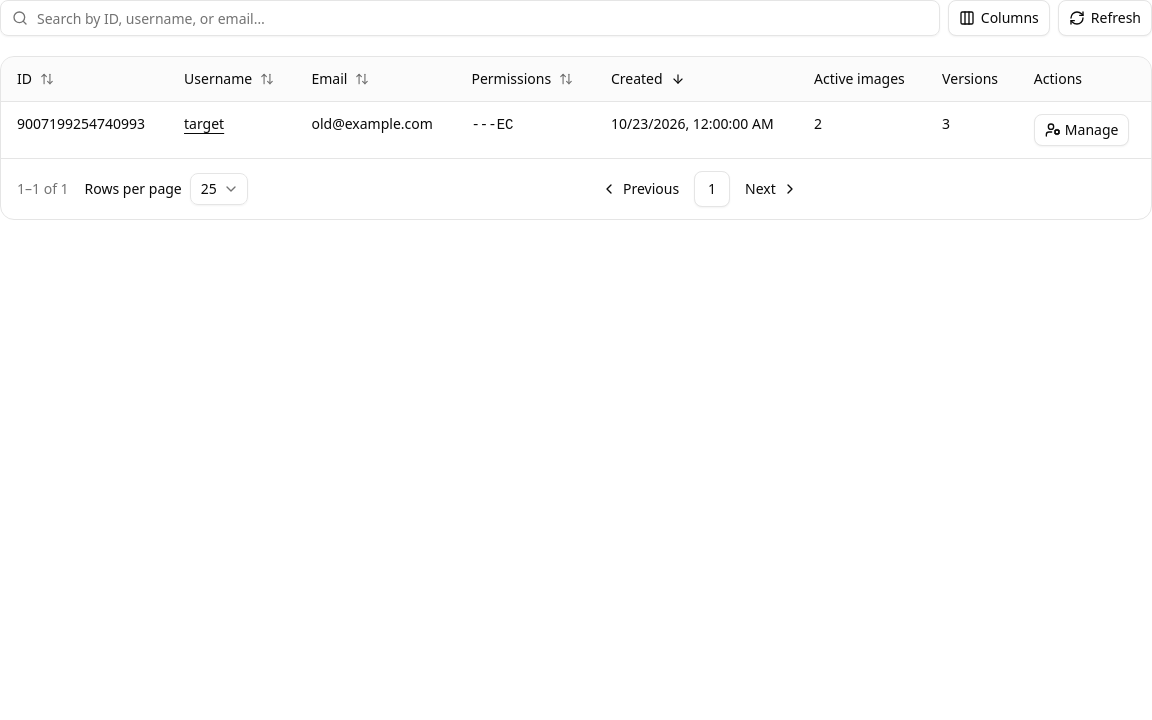
Test: keeps failed changes open for retry and rechecks identity on access denial
The image size is (1152, 720).
Step 1. Click the button with aria-label "Manage target" → (1082, 130), box [1034,114,1130,146]
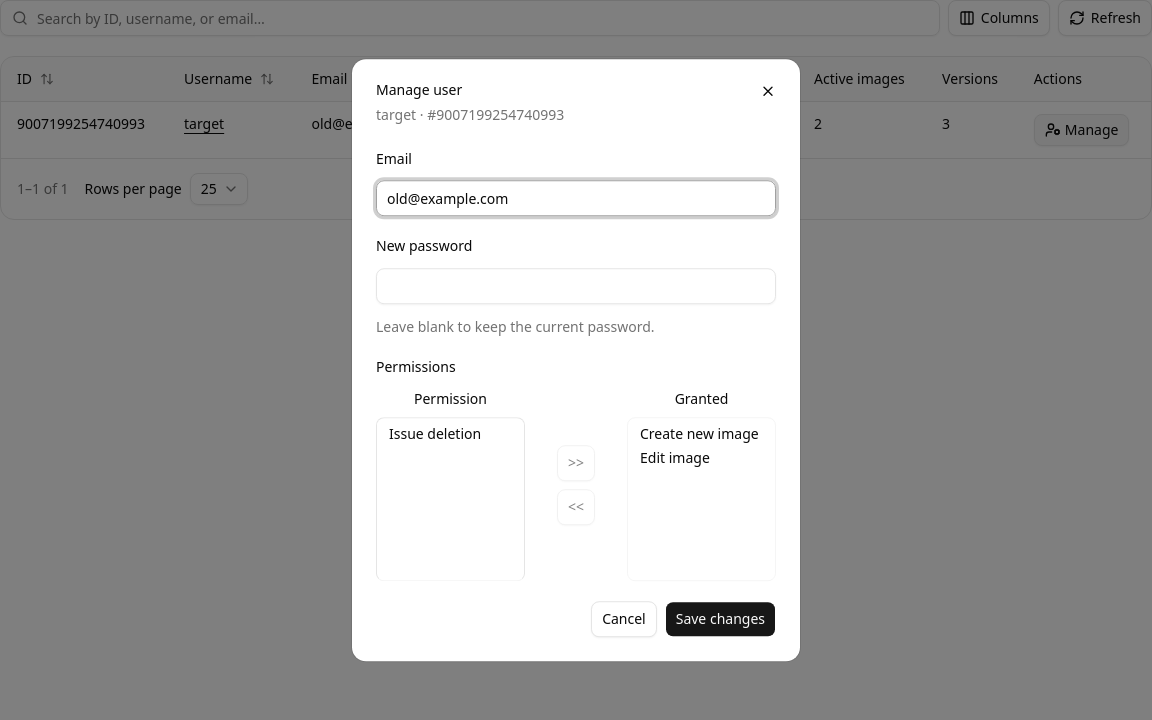
Step 2. Click the button "Save changes" → (720, 619), box [665,601,776,637]
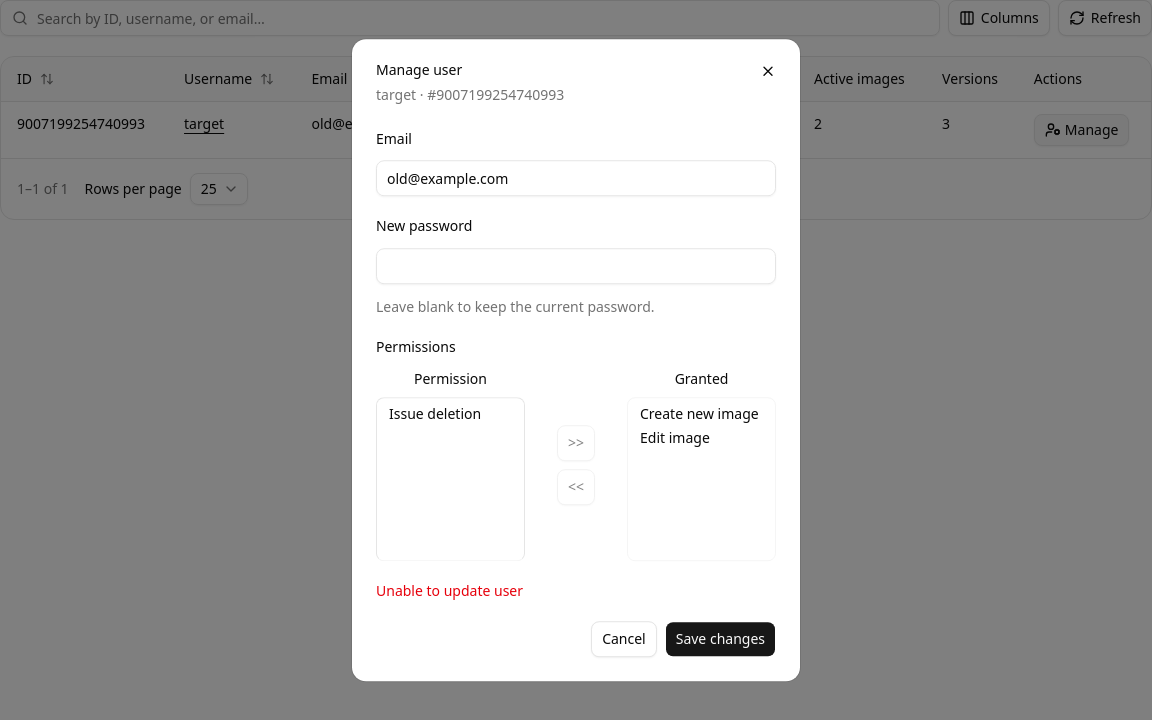
Expected: the message reads "Unable to update user", [376,581,523,600]
Step 3. Click the button "Save changes" → (720, 639), box [665,621,776,657]
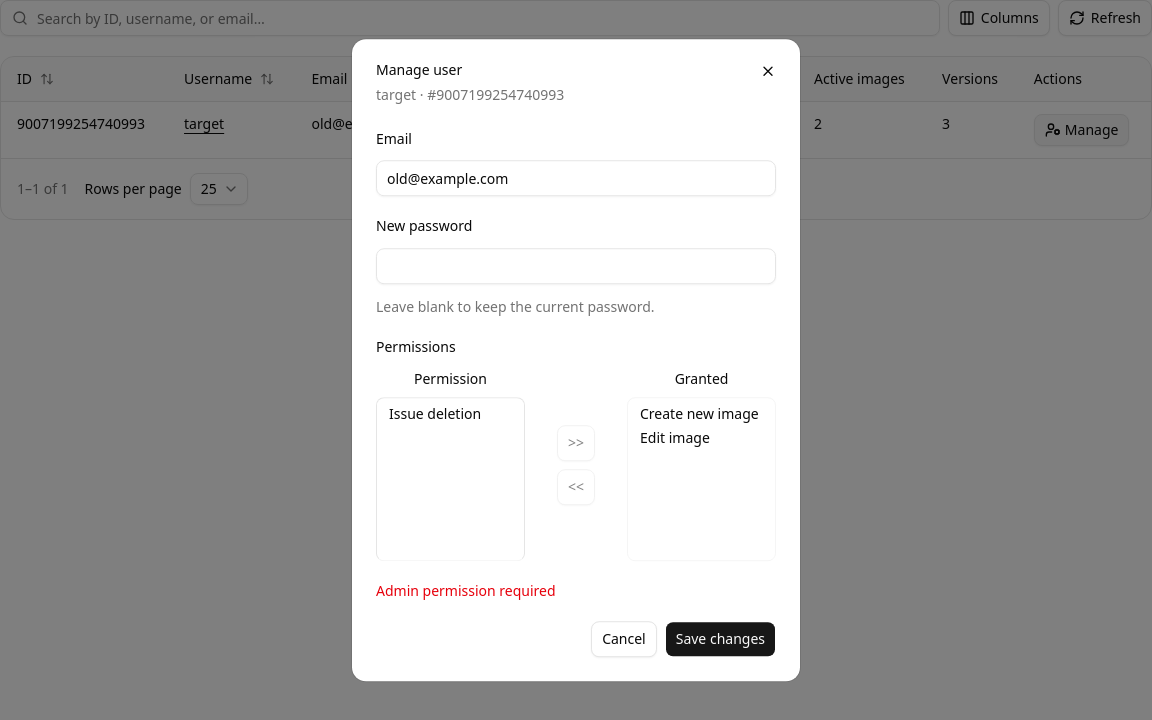
Expected: the dialog is shown, [352,39,800,681]
Step 4. Click the button "Save changes" → (720, 639), box [665,621,776,657]
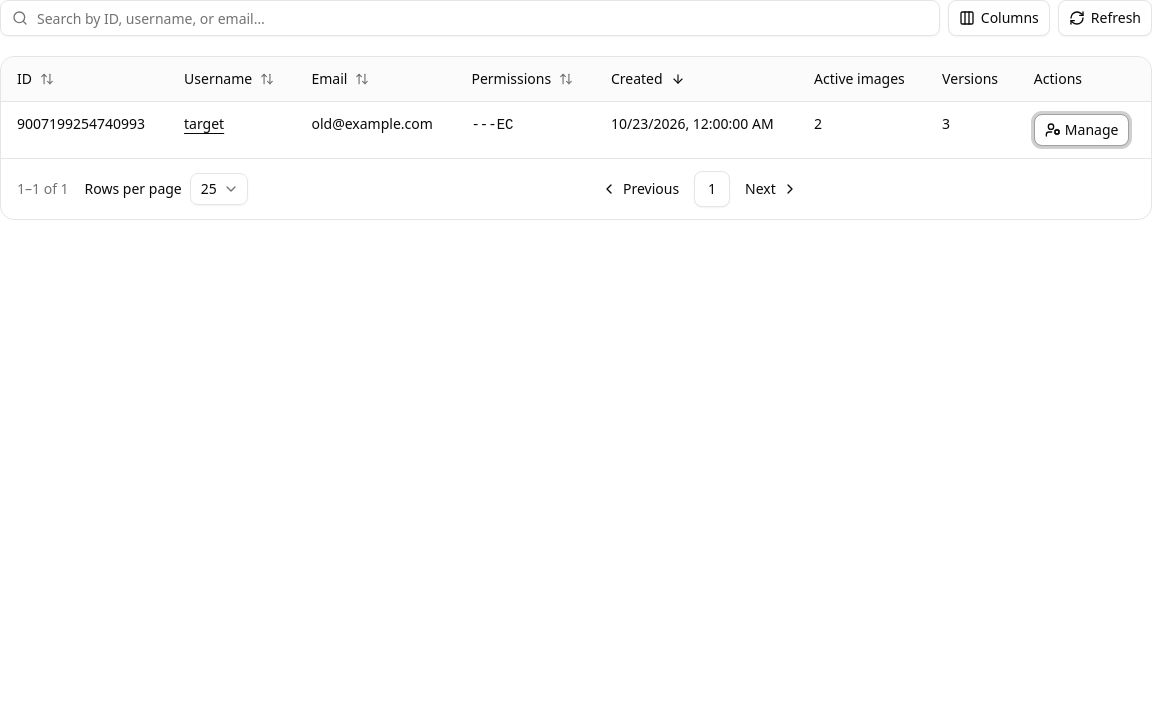
Expected: the dialog is gone
